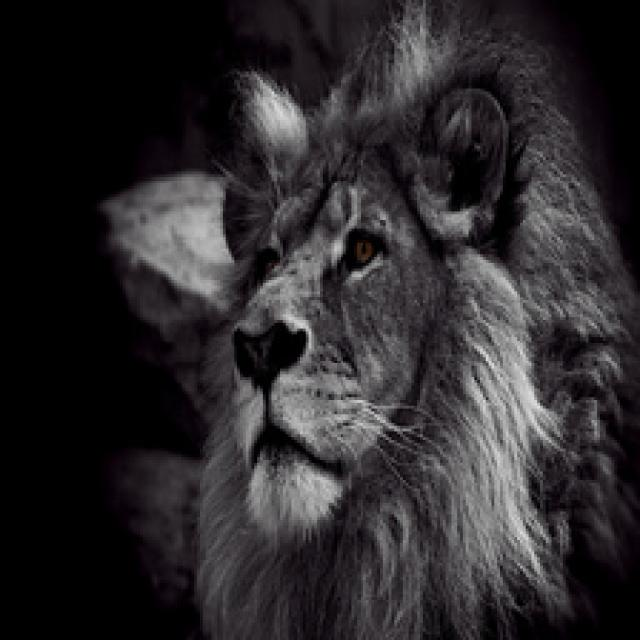lion: (131, 86, 559, 617)
